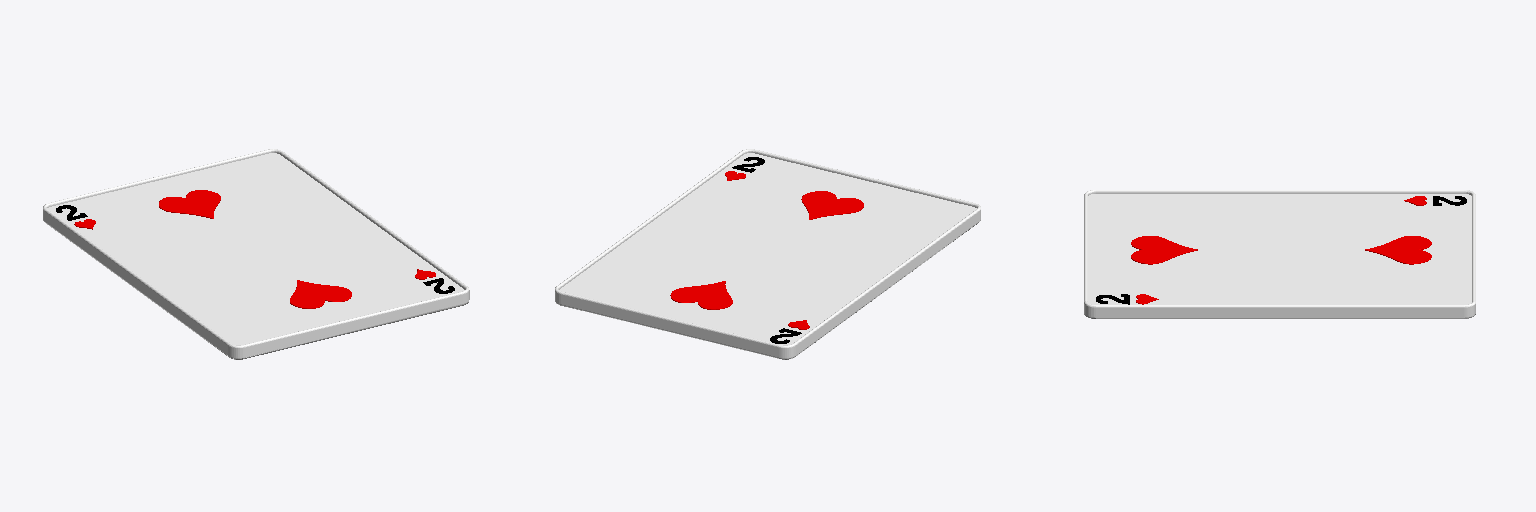
File: hearts_2.obj
3 views of the same model, side by side, from view 1: azimuth 30°, elevation 25°; view 2: azimuth 150°, elevation 25°; view 3: azimuth 270°, elevation 25° (orthographic).
Parts seen in each view (by area): view 1: rect4266.027, rect4266.081, path3940-9.001, path3940-9-6.001, rect4266.110; view 2: rect4266.027, rect4266.081, path3940-9-6.001, path3940-9.001; view 3: rect4266.027, rect4266.081, path3940-9-6.001, path3940-9.001.
Boxes of the visible parts, x1,y1,x2,y2 form: rect4266.027: [47, 153, 464, 344]; rect4266.081: [43, 149, 469, 358]; path3940-9.001: [159, 190, 220, 218]; path3940-9-6.001: [290, 280, 351, 308]; rect4266.110: [46, 223, 468, 359]; rect4266.027: [559, 153, 976, 344]; rect4266.081: [555, 149, 980, 358]; path3940-9-6.001: [801, 191, 863, 219]; path3940-9.001: [670, 281, 732, 309]; rect4266.027: [1088, 194, 1471, 304]; rect4266.081: [1084, 190, 1475, 318]; path3940-9-6.001: [1131, 236, 1197, 264]; path3940-9.001: [1365, 236, 1431, 264].
Size of the model in its own units: 2.88 by 0.1966 by 4.08.